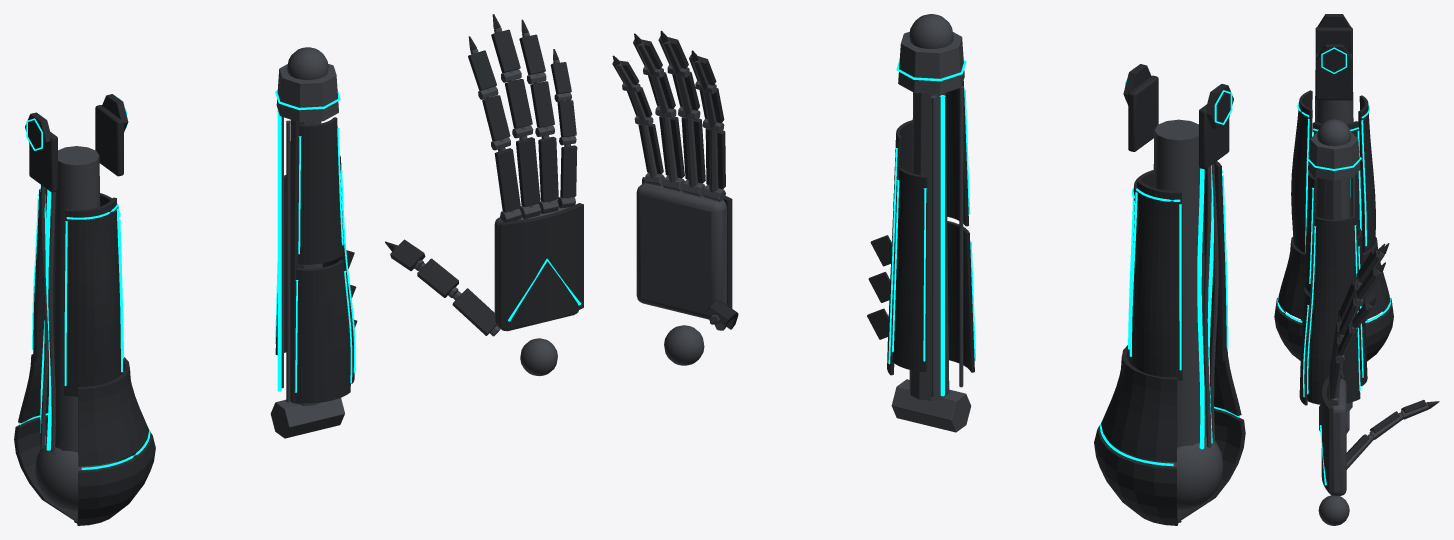
Rendered from arm-neon.glb.
The picture shows the model from 3 angles, left to right: view 1: azimuth 30°, elevation 25°; view 2: azimuth 150°, elevation 25°; view 3: azimuth 270°, elevation 25°; orthographic projection. The views are drawn at different scales.
Parts seen in each view (by area): view 1: UpperArm, Forearm, Hand, Middle1, Index1, Ring1, Thumb1, Middle2, Middle3, Pinky1, Index2, Ring2 (+6 smaller); view 2: UpperArm, Forearm, Hand, Middle1, Ring1, Index1, Pinky1, Middle2, Middle3, Ring2, Index2, Ring3 (+1 smaller); view 3: UpperArm, Forearm, Hand, Ring3, Middle3, Pinky1, Thumb2, Thumb1, Thumb3, Ring2, Pinky3, Pinky2 (+1 smaller).
Part boxes in pixels (x1,y1,x2,y2): UpperArm: (14, 94, 155, 525); Forearm: (270, 47, 357, 438); Hand: (494, 203, 583, 376); Middle1: (516, 135, 541, 219); Index1: (494, 147, 521, 222); Ring1: (538, 135, 558, 213); Thumb1: (452, 288, 500, 336); Middle2: (505, 79, 533, 138); Middle3: (491, 14, 521, 82); Pinky1: (557, 144, 577, 208); Index2: (482, 95, 510, 150); Ring2: (530, 81, 554, 136); UpperArm: (1094, 64, 1245, 525); Forearm: (867, 14, 975, 432); Hand: (636, 177, 732, 365); Middle1: (681, 117, 705, 196); Ring1: (659, 116, 684, 191); Index1: (702, 128, 725, 201); Pinky1: (638, 124, 664, 185); Middle2: (672, 71, 700, 120); Middle3: (658, 30, 689, 77); Ring2: (648, 72, 676, 118); Index2: (699, 88, 724, 132); Ring3: (633, 33, 663, 77); UpperArm: (1274, 14, 1393, 361); Forearm: (1299, 119, 1367, 433); Hand: (1318, 376, 1349, 525); Ring3: (1356, 262, 1385, 306); Middle3: (1357, 243, 1389, 288); Pinky1: (1329, 356, 1343, 406); Thumb2: (1369, 411, 1403, 439); Thumb1: (1346, 434, 1373, 469); Thumb3: (1400, 400, 1439, 419); Ring2: (1339, 298, 1359, 341); Pinky3: (1351, 298, 1376, 333); Pinky2: (1338, 326, 1354, 361).
Bounding box in the file's own units: 1.67 × 1.21 × 0.5307.
